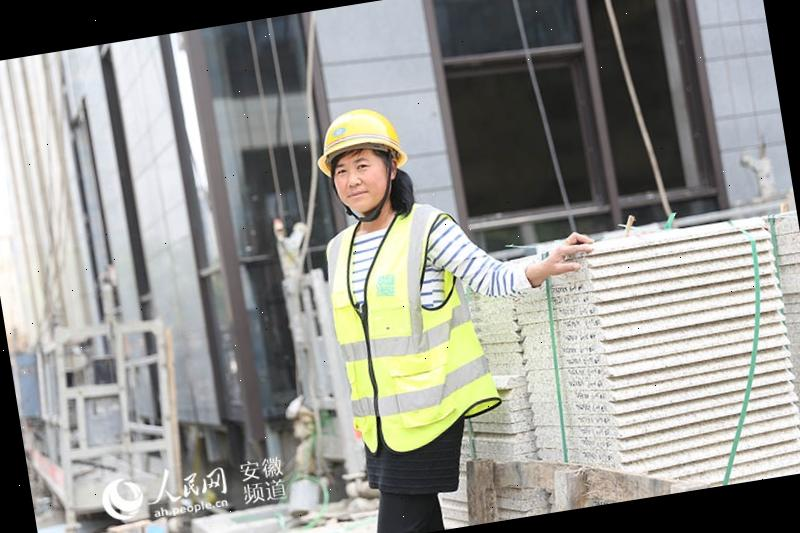helmet: (308, 101, 404, 169)
wear: (322, 210, 482, 455)
